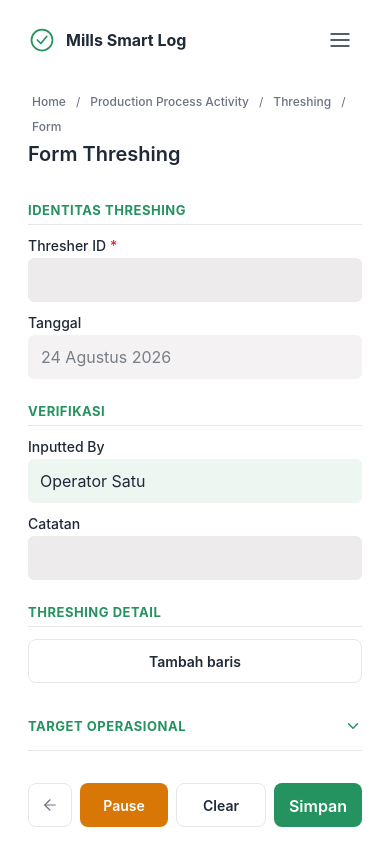
Test: FormThreshingView › shows inline error and does not save when Thresher ID is empty on Simpan
The width and height of the screenshot is (390, 844).
Click the button with test id "save-button" at x=318, y=805, box x1=274 y1=783 x2=362 y2=827
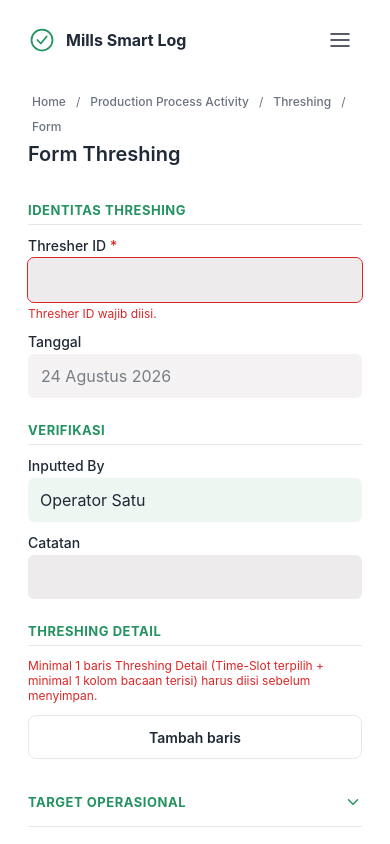
Now the text "Thresher ID wajib diisi" is shown, box x1=28 y1=306 x2=157 y2=321
